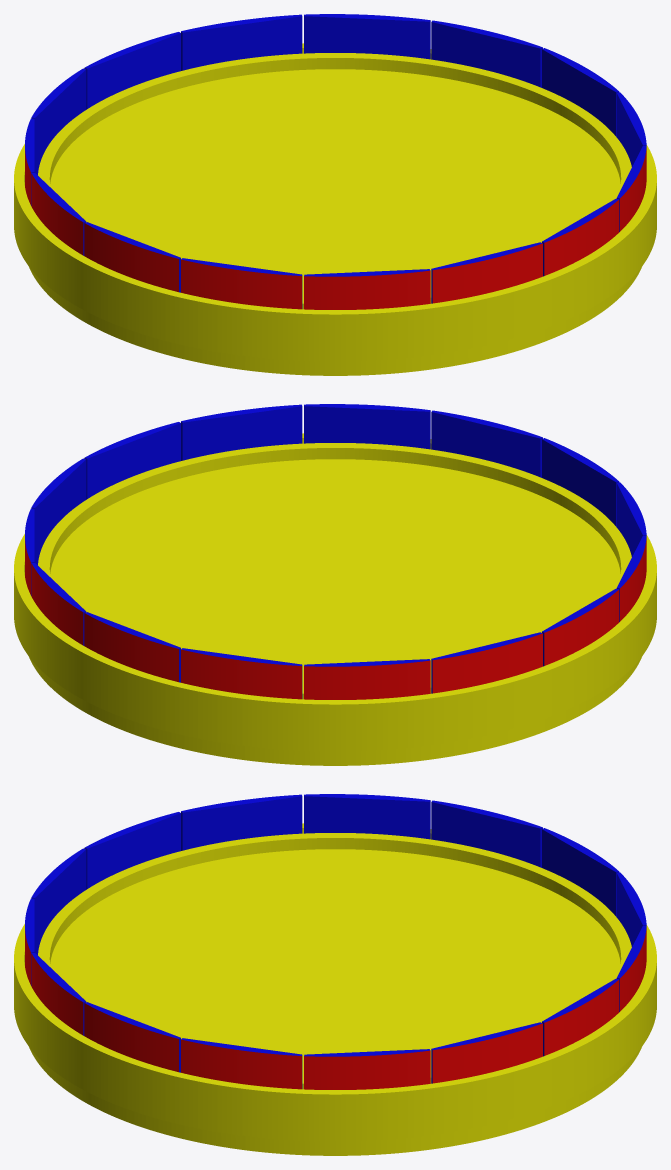
The model's file is Simulation_set_07.fbx.
3 views of the same model, one above another, from view 1: azimuth 30°, elevation 25°; view 2: azimuth 150°, elevation 25°; view 3: azimuth 270°, elevation 25° (orthographic).
Visible parts, largest first — view 1: Bottom, Monitor_1, Monitor_15, Monitor_8, Monitor_9, Monitor_2, Monitor_7, Monitor_14, Monitor_10, Monitor_3, Monitor_6, Monitor_13 (+4 smaller); view 2: Bottom, Monitor_6, Monitor_5, Monitor_13, Monitor_14, Monitor_7, Monitor_12, Monitor_4, Monitor_15, Monitor_8, Monitor_11, Monitor_3 (+4 smaller); view 3: Bottom, Monitor_11, Monitor_10, Monitor_3, Monitor_4, Monitor_12, Monitor_2, Monitor_9, Monitor_5, Monitor_13, Monitor_1, Monitor_8 (+4 smaller).
Part boxes in pixels (x1,y1,x2,y2): Bottom: (14, 43, 656, 375); Monitor_1: (304, 14, 430, 59); Monitor_15: (181, 14, 302, 70); Monitor_8: (304, 269, 430, 309); Monitor_9: (181, 258, 302, 309); Monitor_2: (431, 20, 542, 87); Monitor_7: (431, 242, 542, 303); Monitor_14: (84, 32, 180, 109); Monitor_10: (84, 222, 180, 292); Monitor_3: (542, 48, 619, 136); Monitor_6: (542, 198, 619, 276); Monitor_13: (31, 68, 86, 174); Bottom: (14, 433, 656, 765); Monitor_6: (304, 404, 430, 449); Monitor_5: (181, 404, 302, 460); Monitor_13: (304, 659, 430, 699); Monitor_14: (181, 648, 302, 699); Monitor_7: (431, 410, 542, 477); Monitor_12: (431, 632, 542, 693); Monitor_4: (84, 422, 180, 499); Monitor_15: (84, 612, 180, 682); Monitor_8: (542, 438, 619, 526); Monitor_11: (542, 588, 619, 666); Monitor_3: (31, 458, 86, 564); Bottom: (14, 823, 656, 1155); Monitor_11: (304, 794, 430, 839); Monitor_10: (181, 794, 302, 850); Monitor_3: (304, 1049, 430, 1089); Monitor_4: (181, 1038, 302, 1089); Monitor_12: (431, 800, 542, 867); Monitor_2: (431, 1022, 542, 1083); Monitor_9: (84, 812, 180, 889); Monitor_5: (84, 1002, 180, 1072); Monitor_13: (542, 828, 619, 916); Monitor_1: (542, 978, 619, 1056); Monitor_8: (31, 848, 86, 954).
Bounding box in the file's own units: 372 × 63.28 × 372.
